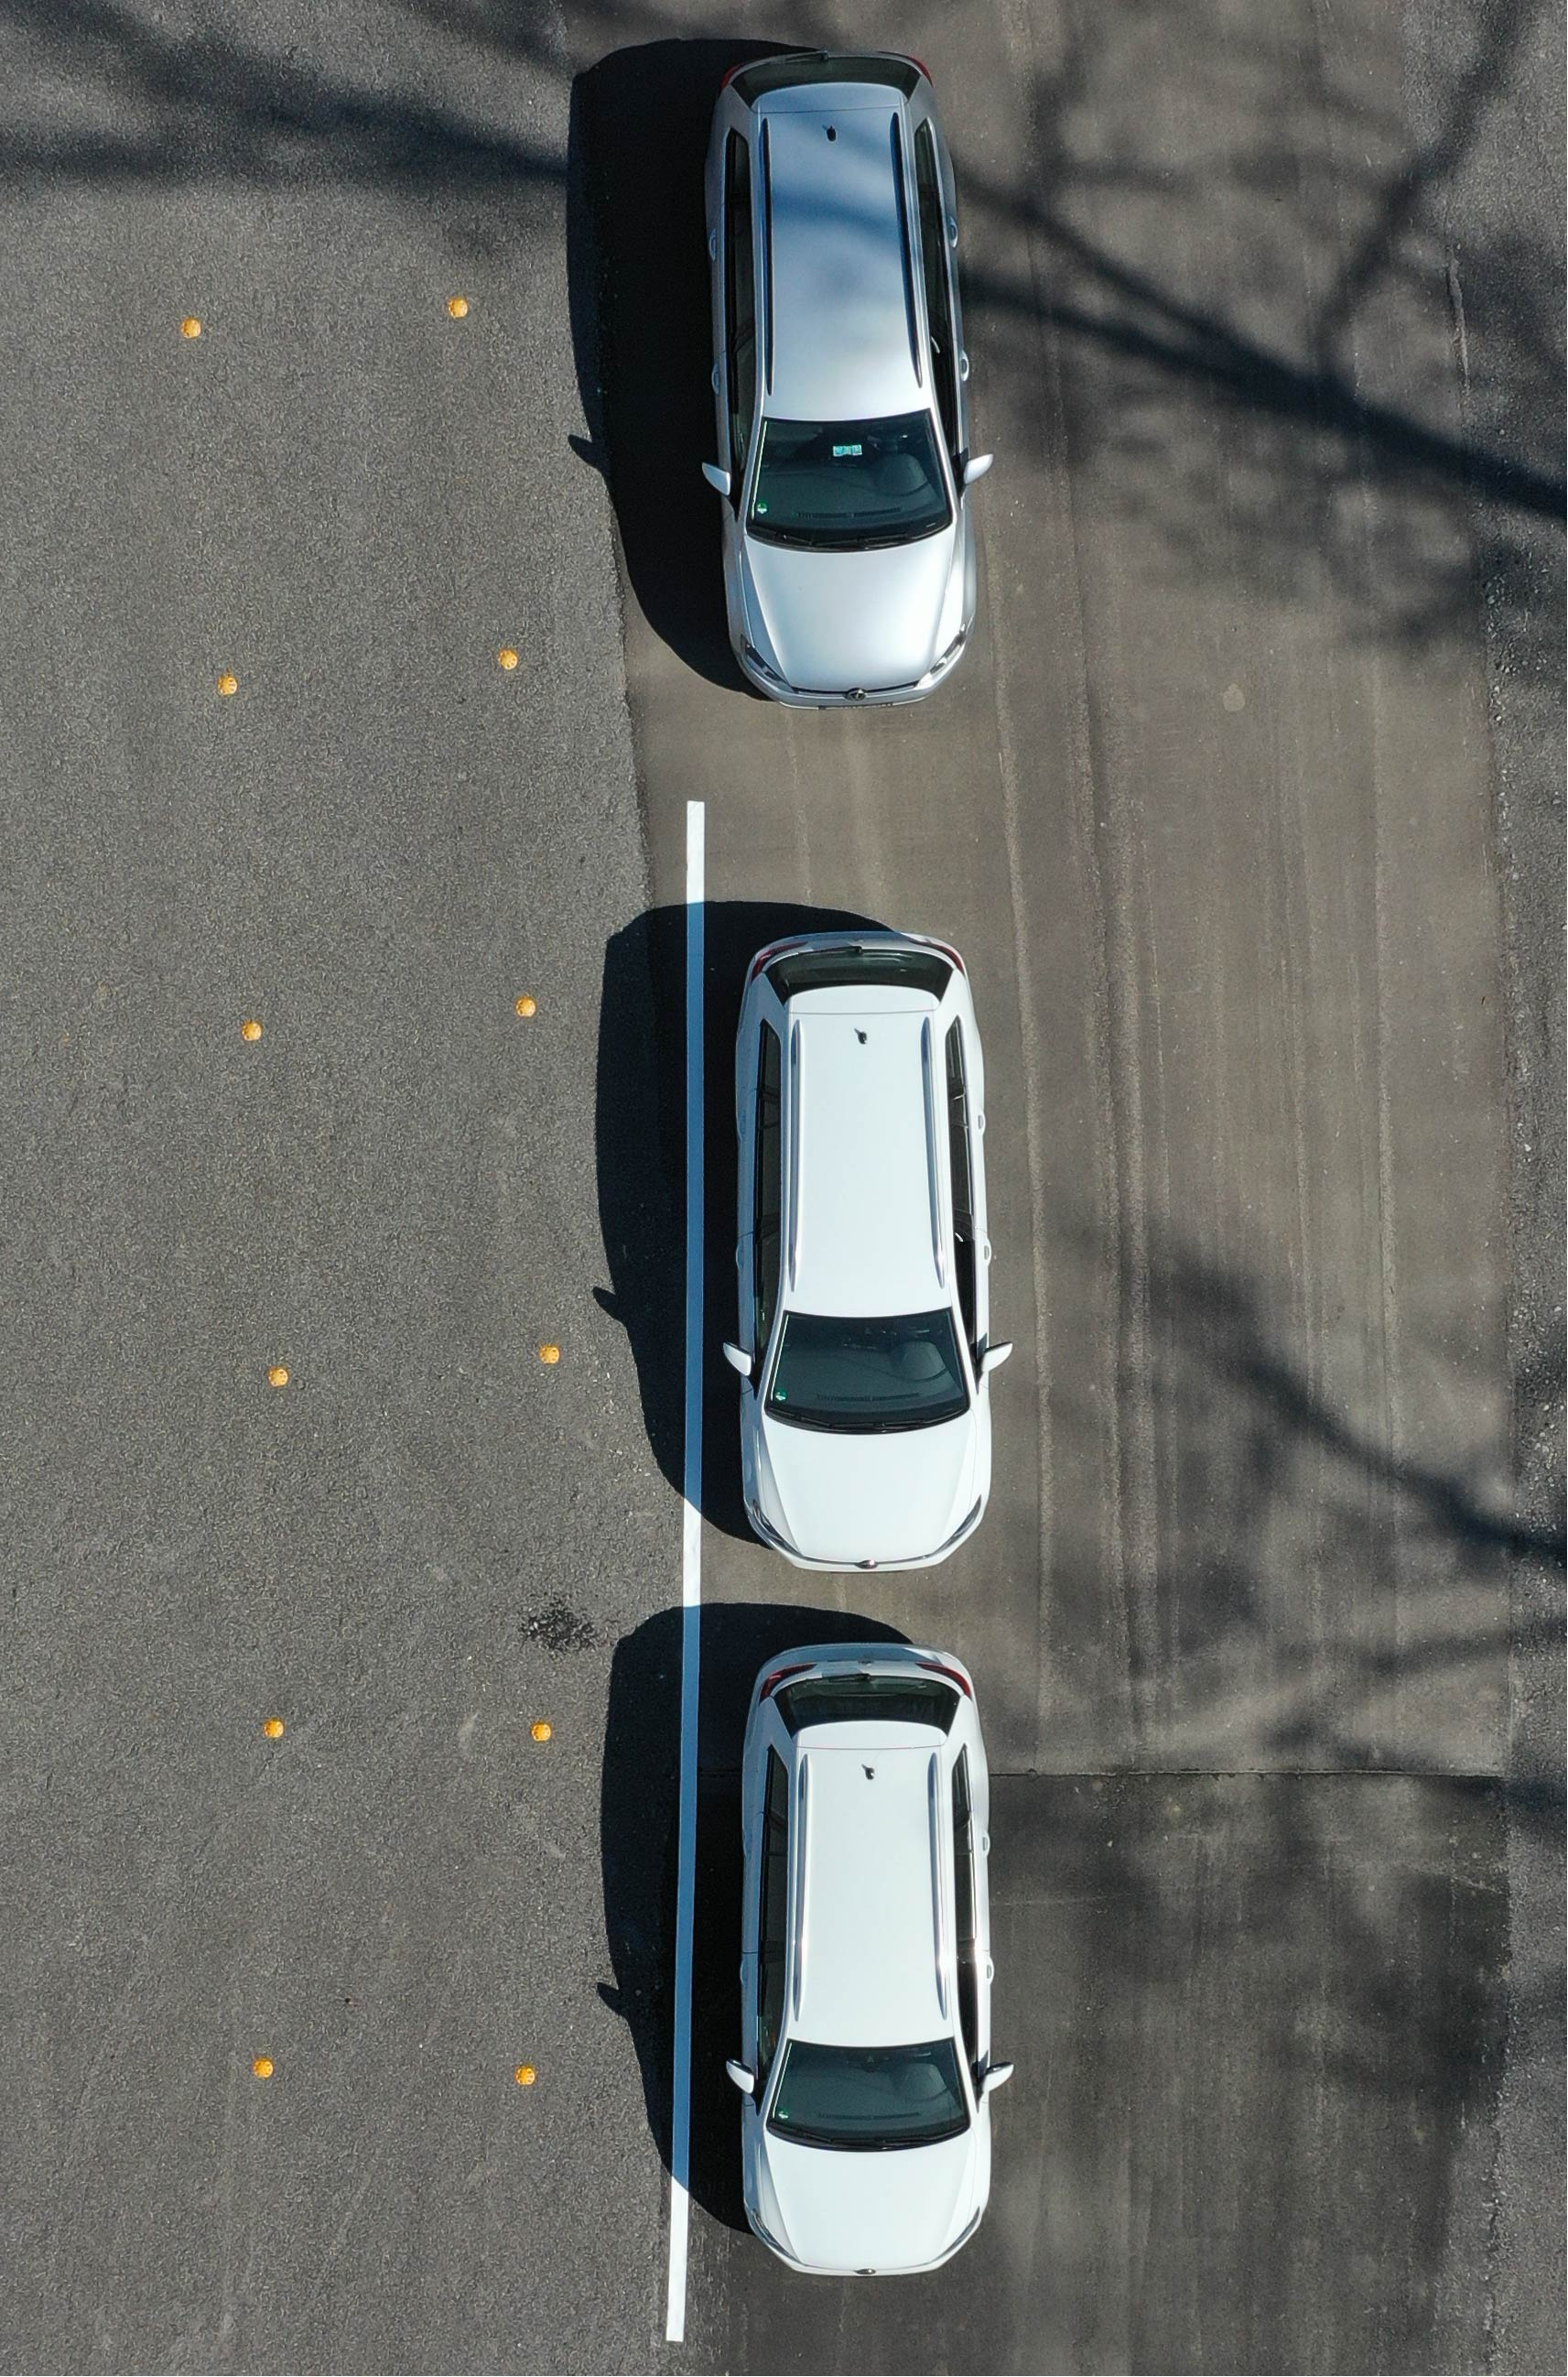Car: (744, 1633, 1022, 2289), (691, 54, 969, 711), (731, 919, 996, 1572)
LaneMark: (667, 791, 717, 2340)
